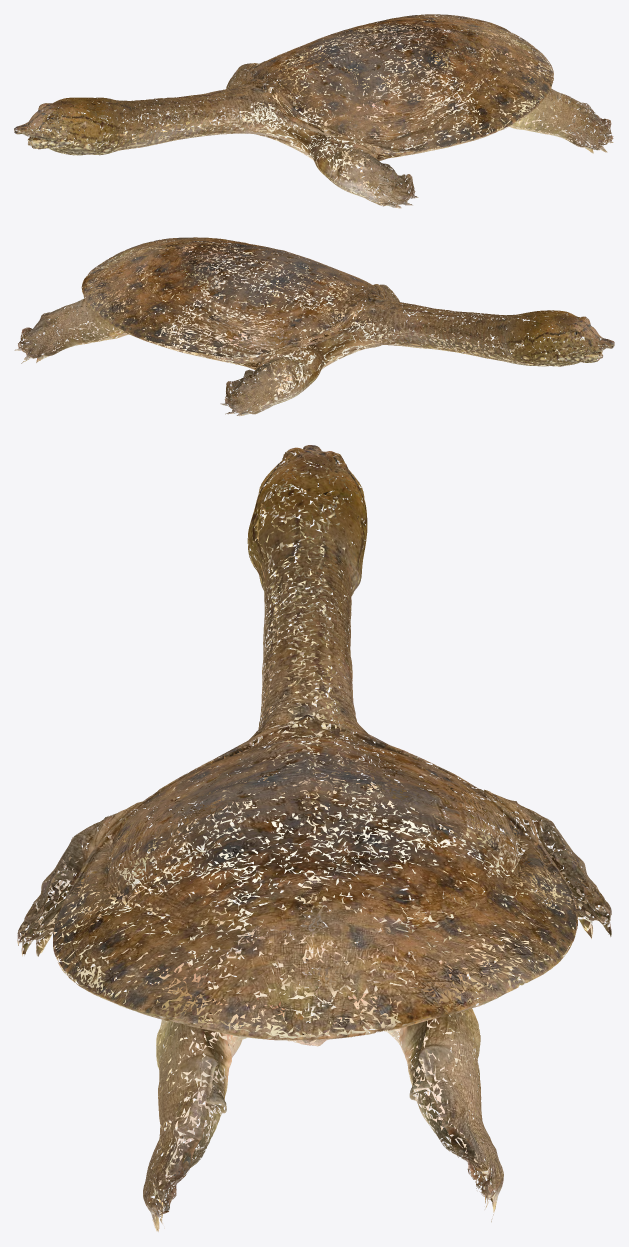
Rendered from softshell.glb.
The picture shows the model from 3 angles, top to bottom: view 1: azimuth 30°, elevation 25°; view 2: azimuth 150°, elevation 25°; view 3: azimuth 270°, elevation 25°; orthographic projection. The views are drawn at different scales.
Parts seen in each view (by area): view 1: Object_6, Object_14; view 2: Object_6, Object_14; view 3: Object_6, Object_14.
Part boxes in pixels (x1,y1,x2,y2): Object_6: (14, 14, 612, 208); Object_14: (14, 14, 613, 207); Object_6: (15, 237, 614, 416); Object_14: (14, 239, 614, 415); Object_6: (17, 451, 611, 1231); Object_14: (17, 445, 611, 1231).
Bounding box in the file's own units: 18.32 × 4.48 × 8.46.
2 materials, 2 textured.
